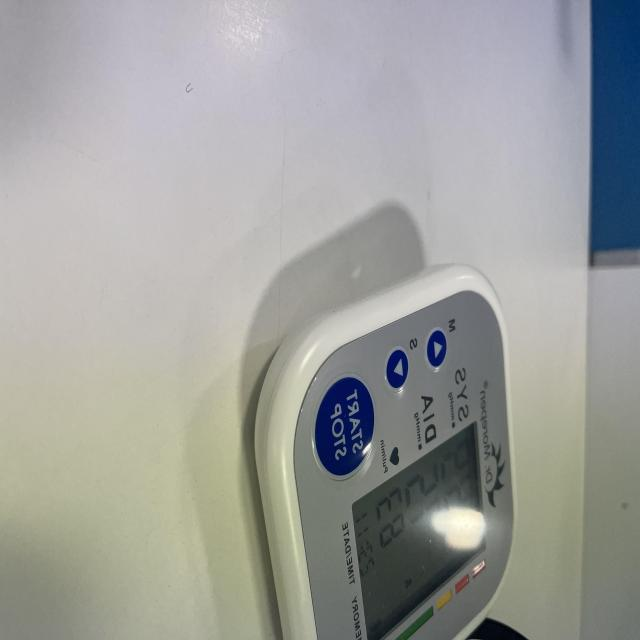bp: (255, 265, 516, 640), (257, 265, 516, 640)
